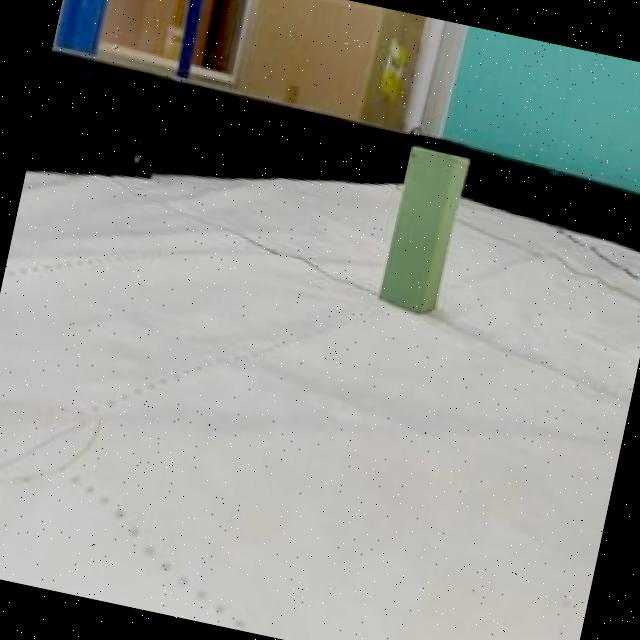greenbox: (376, 143, 470, 314)
